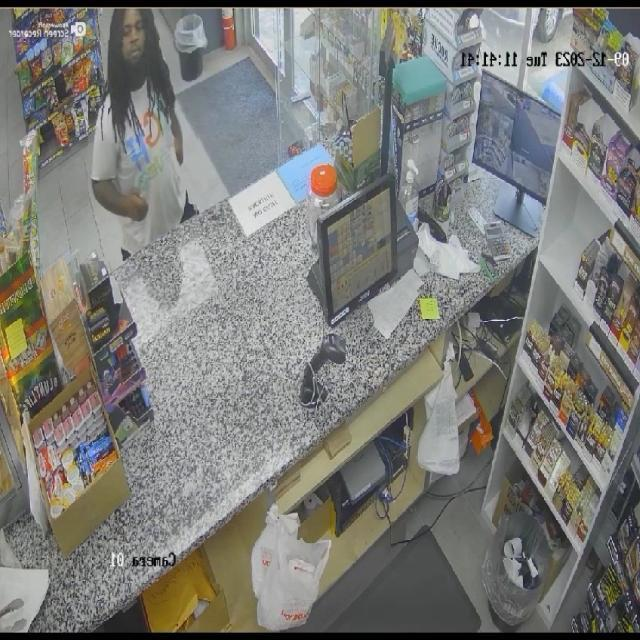normal: (88, 6, 200, 261)
